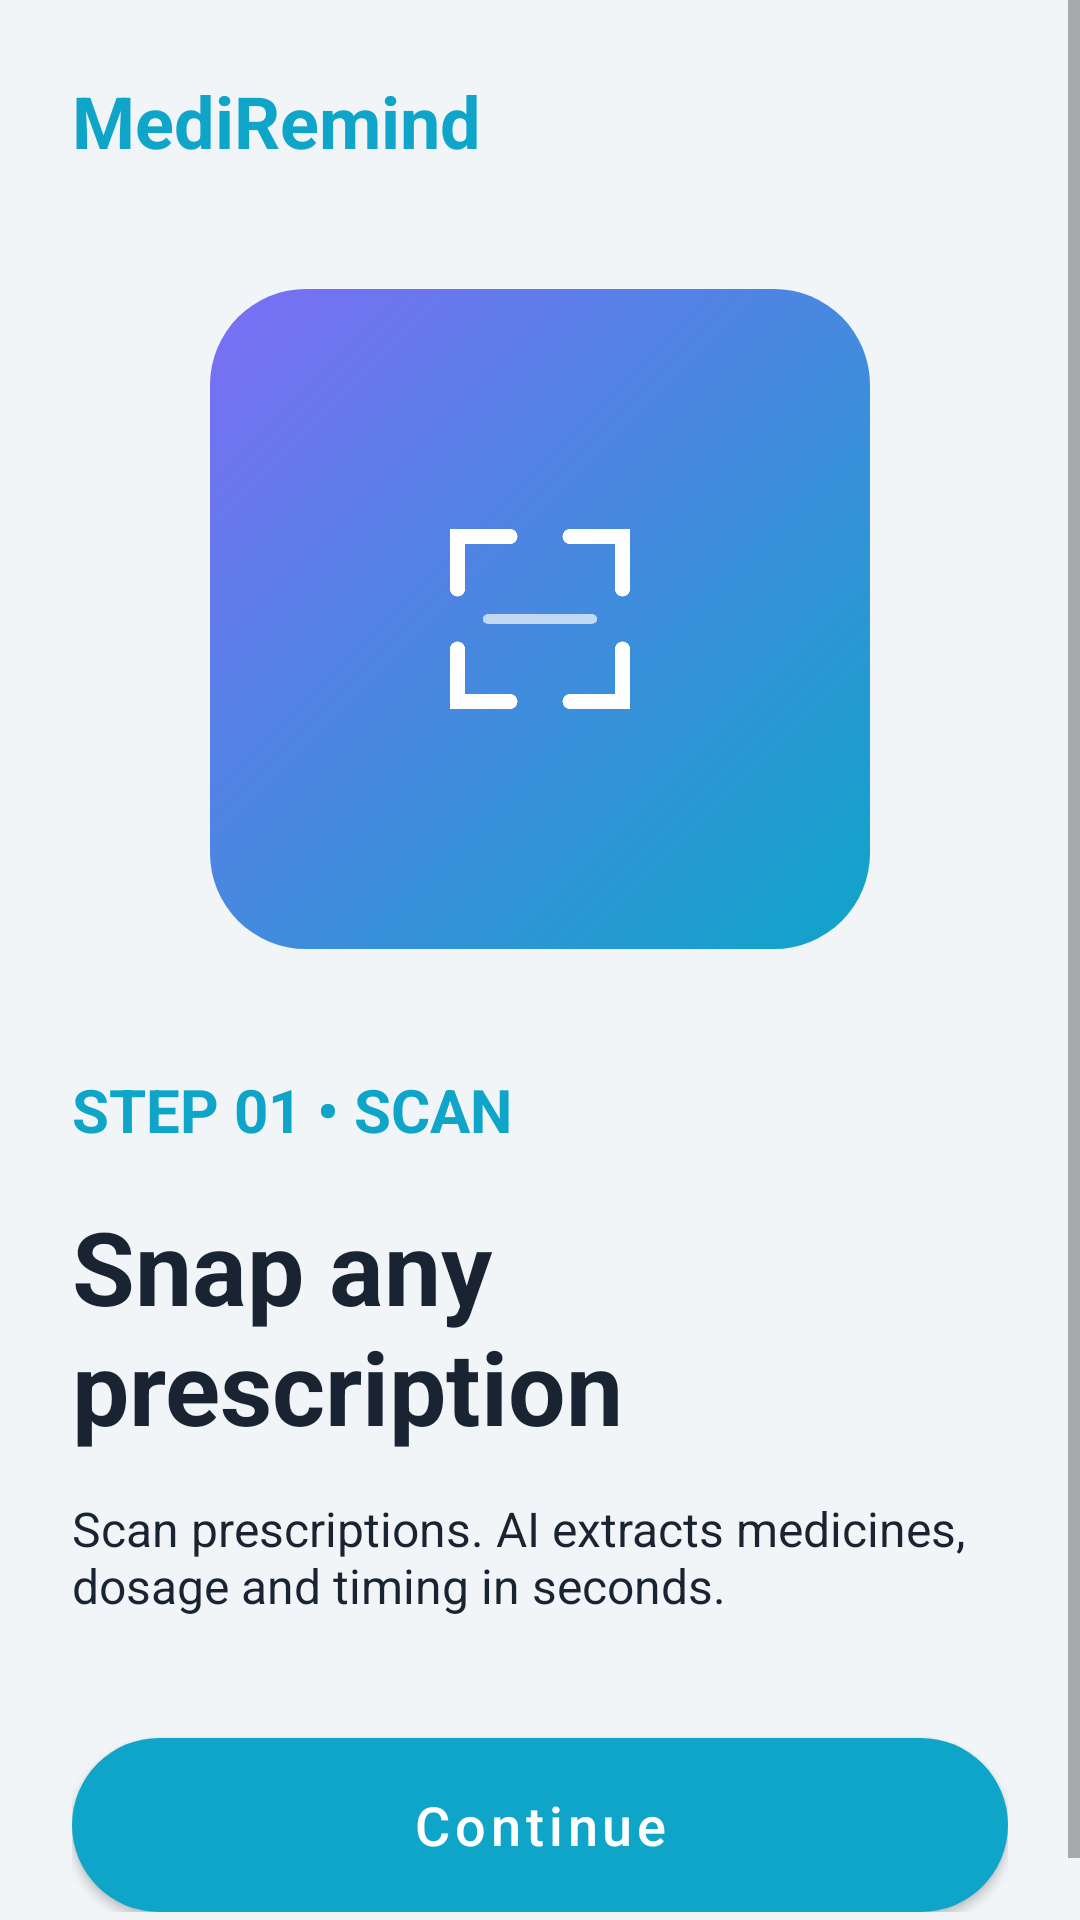

Screen size 1080w x 1920h. Icon name, then its center in pixels as (x=x, y=y):
scan viewfinder: (x=540, y=619)
